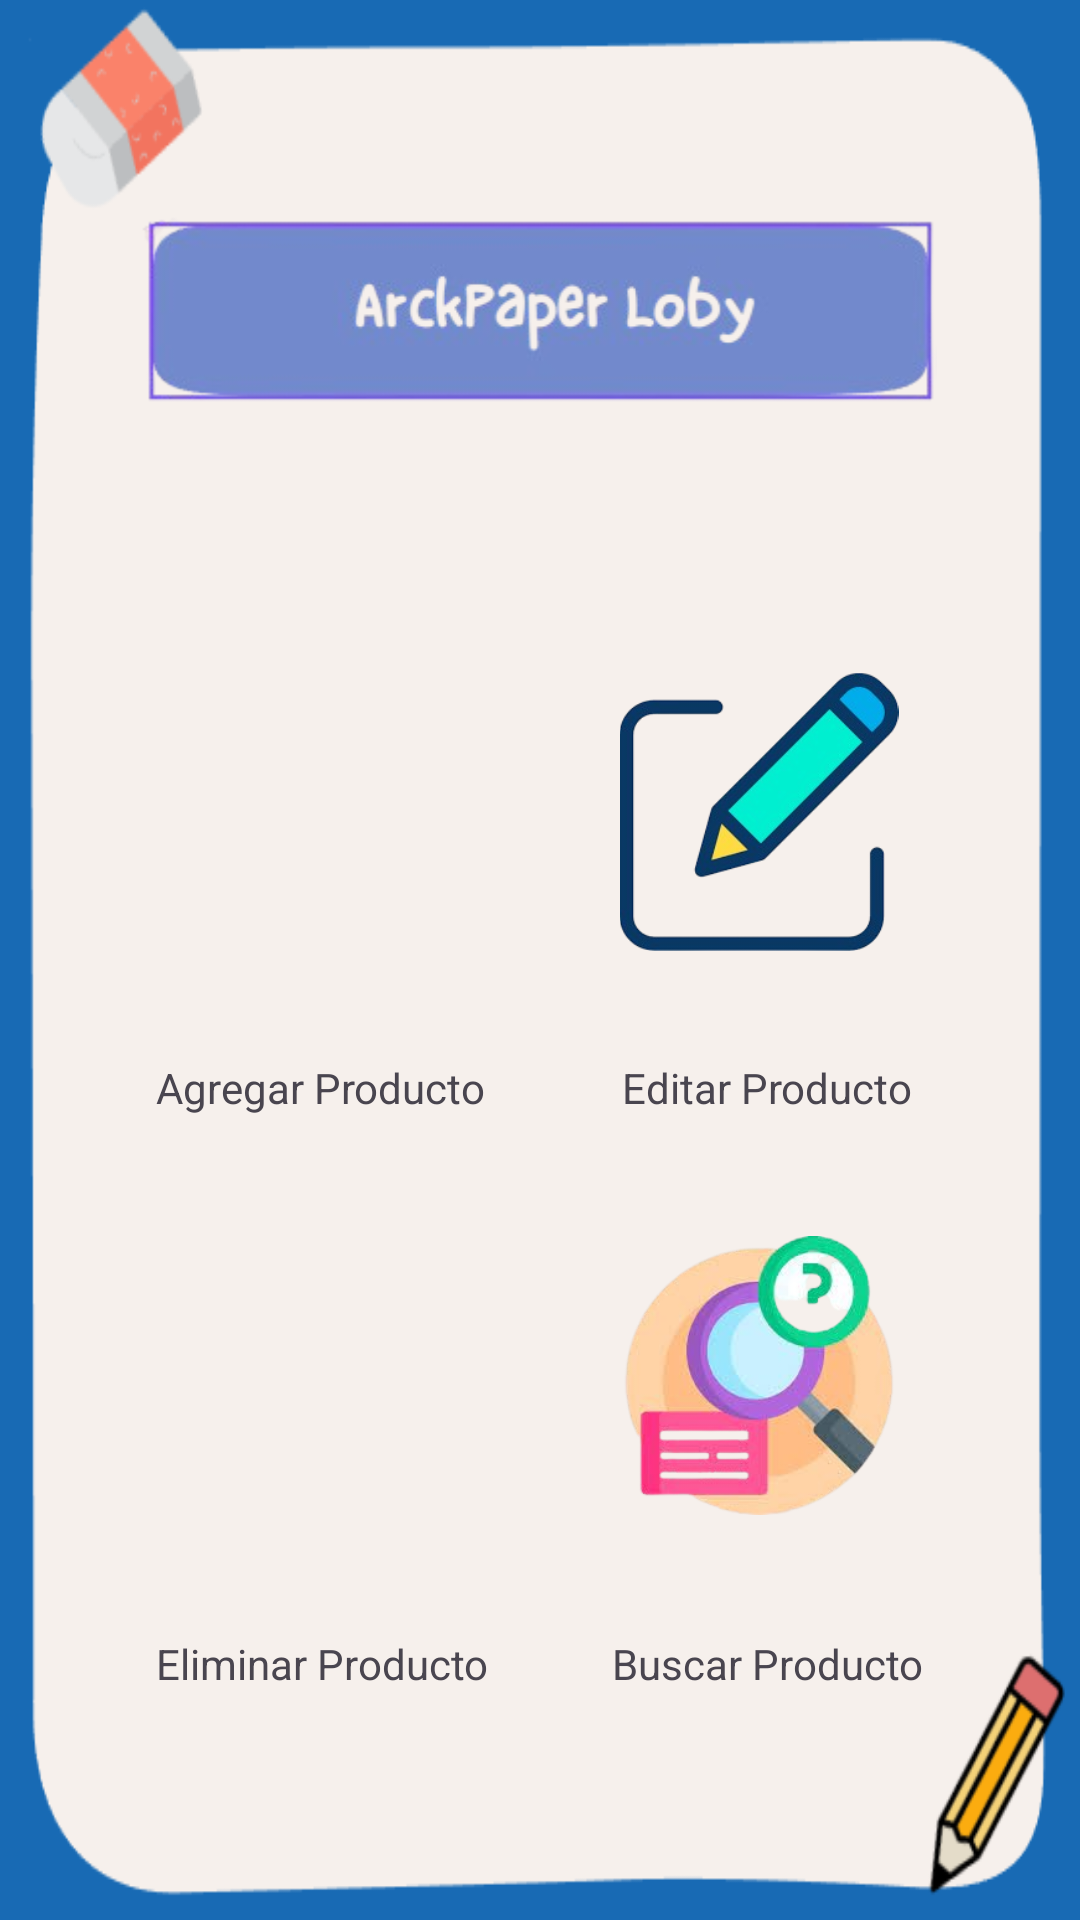

Where to tap for icons on this 1080×1920 app screen, as (x,y):
search: (759,1375)
